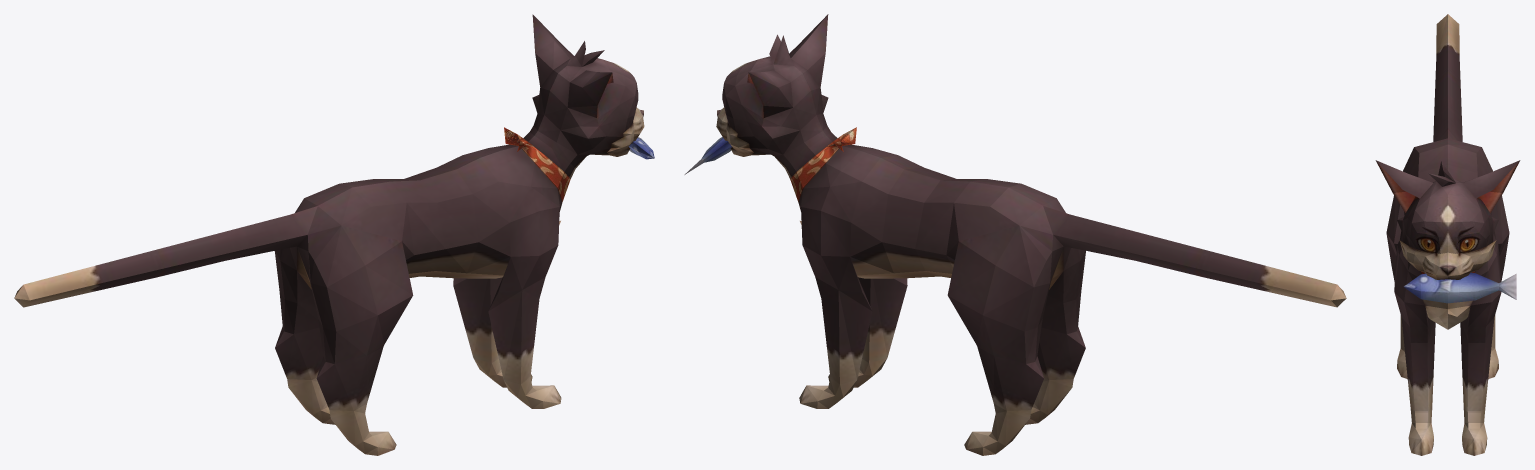
The model's file is dog.gltf.
The picture shows the model from 3 angles, left to right: view 1: azimuth 30°, elevation 25°; view 2: azimuth 150°, elevation 25°; view 3: azimuth 270°, elevation 25°; orthographic projection. The views are drawn at different scales.
Size of the model in its own units: 2.5 by 1.29 by 0.5488.
Materials: 1 (1 with a texture image).
